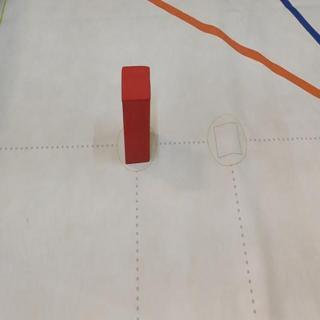redbox: (121, 64, 151, 164)
